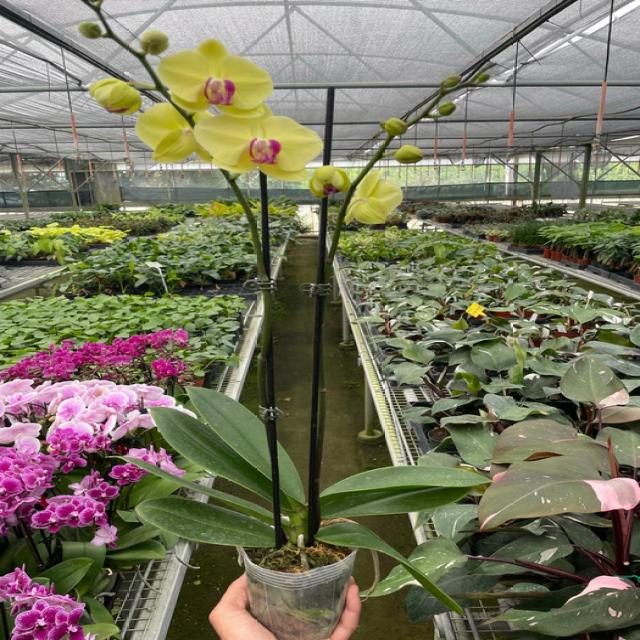flower: (159, 40, 272, 115), (207, 112, 321, 171), (137, 103, 208, 161), (346, 168, 400, 223), (89, 79, 139, 114), (310, 165, 350, 197)
leaf: (152, 407, 301, 507), (316, 521, 462, 612), (187, 388, 271, 476), (137, 496, 275, 546), (321, 478, 479, 518), (180, 480, 271, 518), (139, 461, 177, 479)
plant: (60, 17, 561, 621)
pot: (240, 541, 356, 628)
